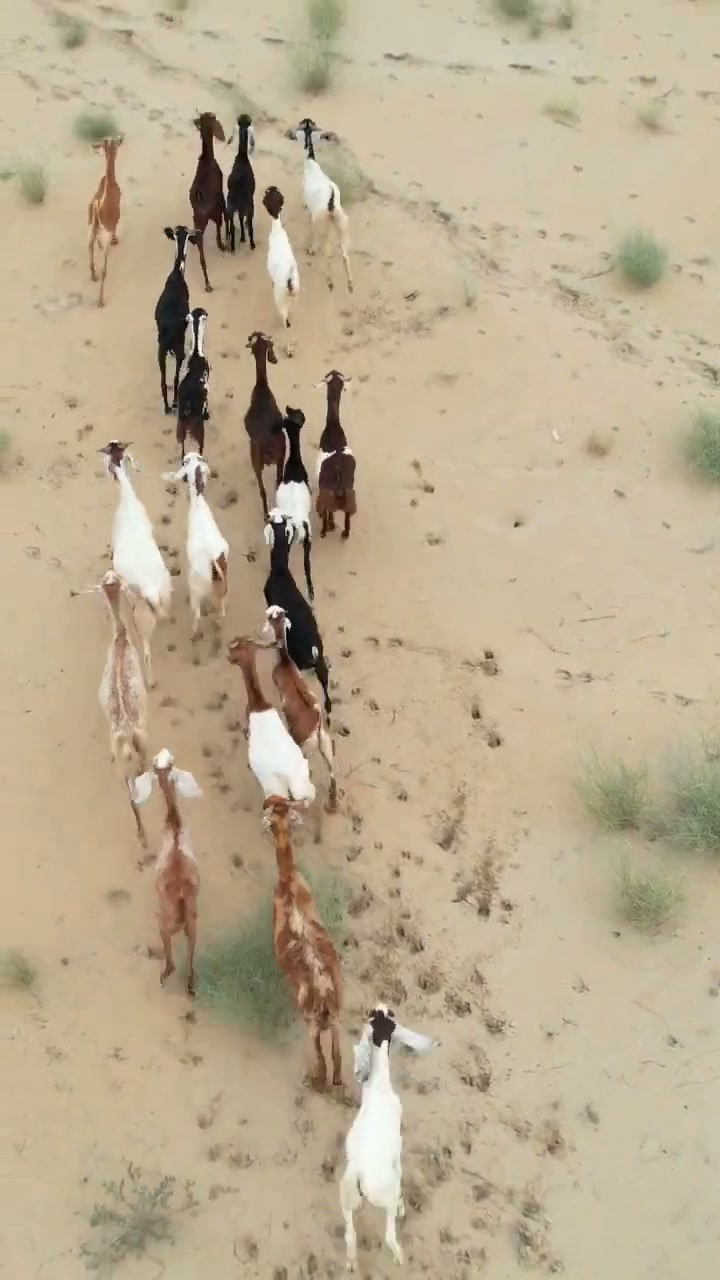animal_footprint: (321, 570, 585, 1277), (170, 1034, 309, 1279)
